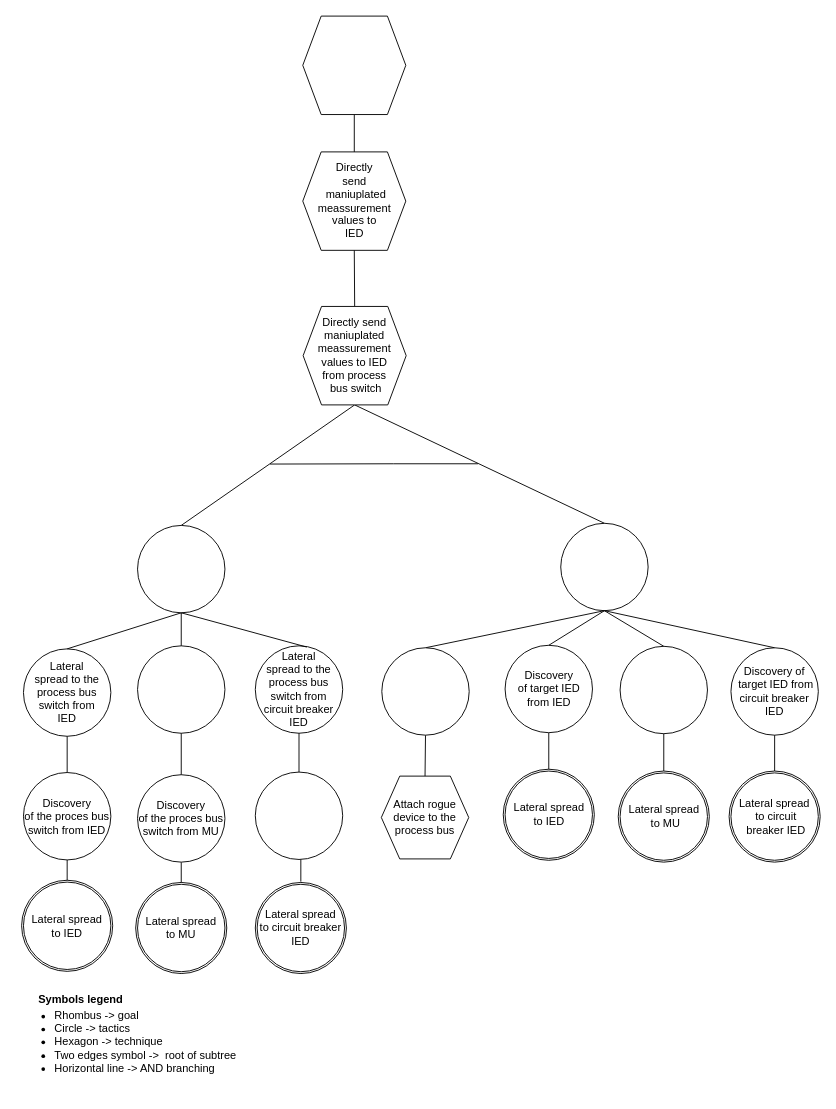
Some shapes in this 836 by 1109 pixel diagram are drawn without their labels. Here are the shapes that lost their labels. From the top down, the box of each, then its label:
(302, 15, 406, 115): Manipulate measurement values
(137, 524, 225, 613): Lateral spread to the process bus switch
(560, 522, 648, 611): Discovery of target IED's process bus network interface
(137, 645, 225, 733): Lateral spread to the process bus switch from MU
(381, 647, 469, 735): Discovery of IED with the process bus rogue device
(619, 645, 707, 734): Discovery of target IED from MU
(254, 771, 343, 859): Discovery of the process bus switch from circuit breaker IED
